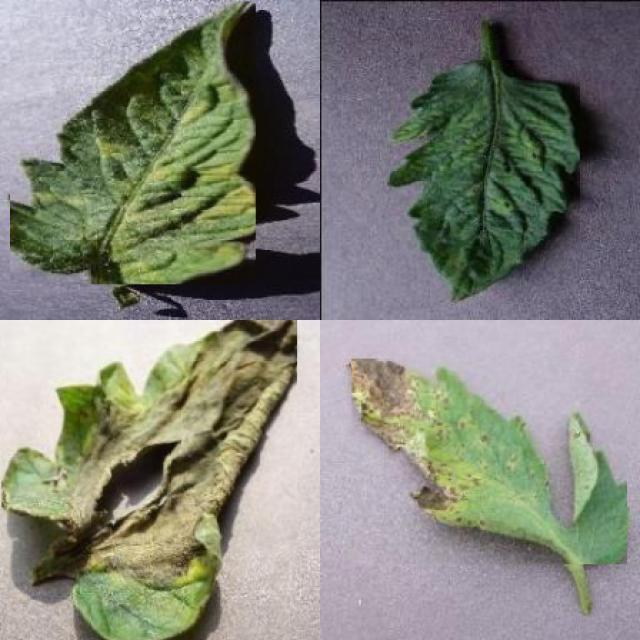Late Blight: (2, 320, 297, 640)
Leaf Mold: (10, 2, 256, 285)
Mosaic Virus: (383, 60, 580, 303)
Septoria: (352, 359, 627, 564)
